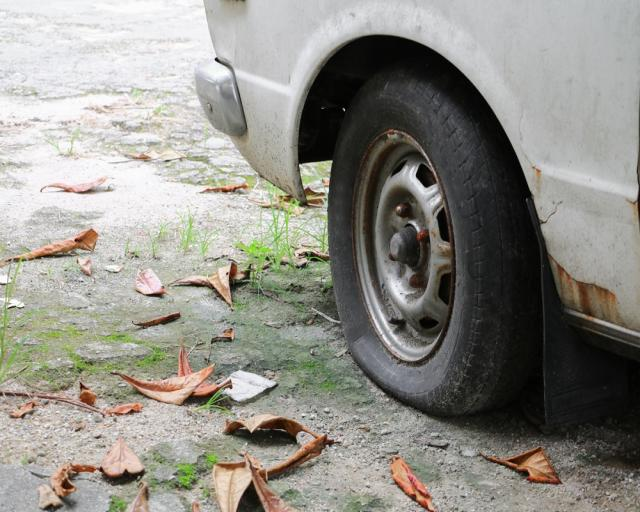tire flat: (326, 63, 527, 418)
